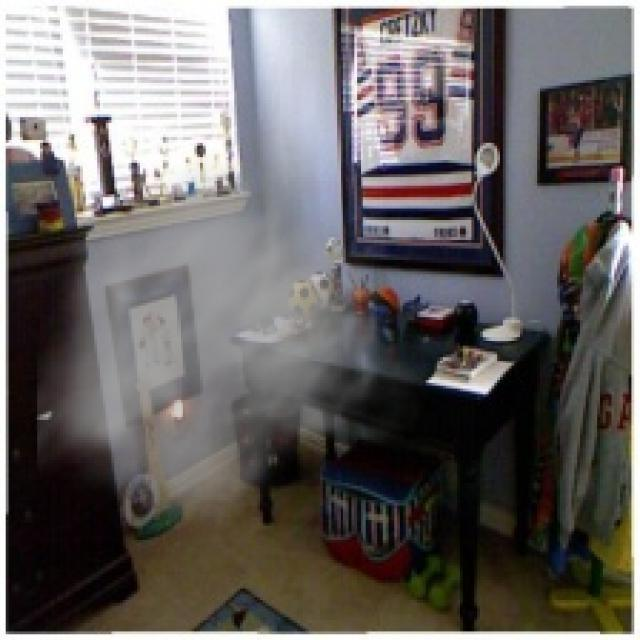Smoke: (37, 148, 426, 540)
